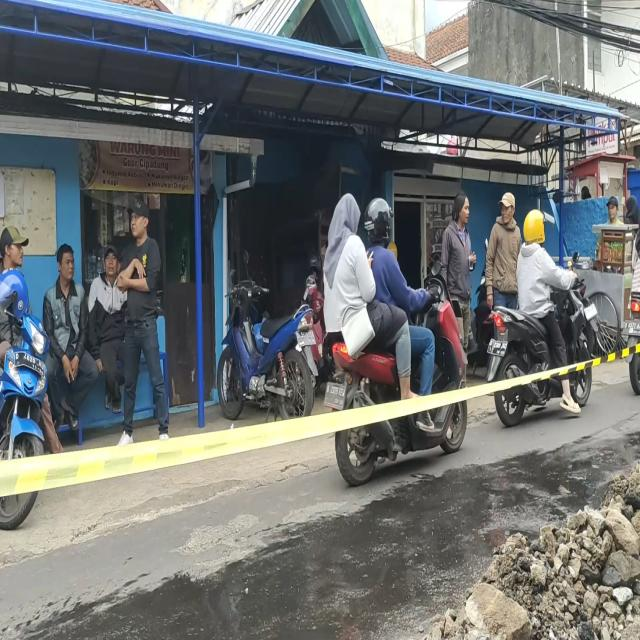helmet: (365, 198, 392, 245), (523, 208, 548, 246)
no-helmet: (333, 200, 359, 236)
